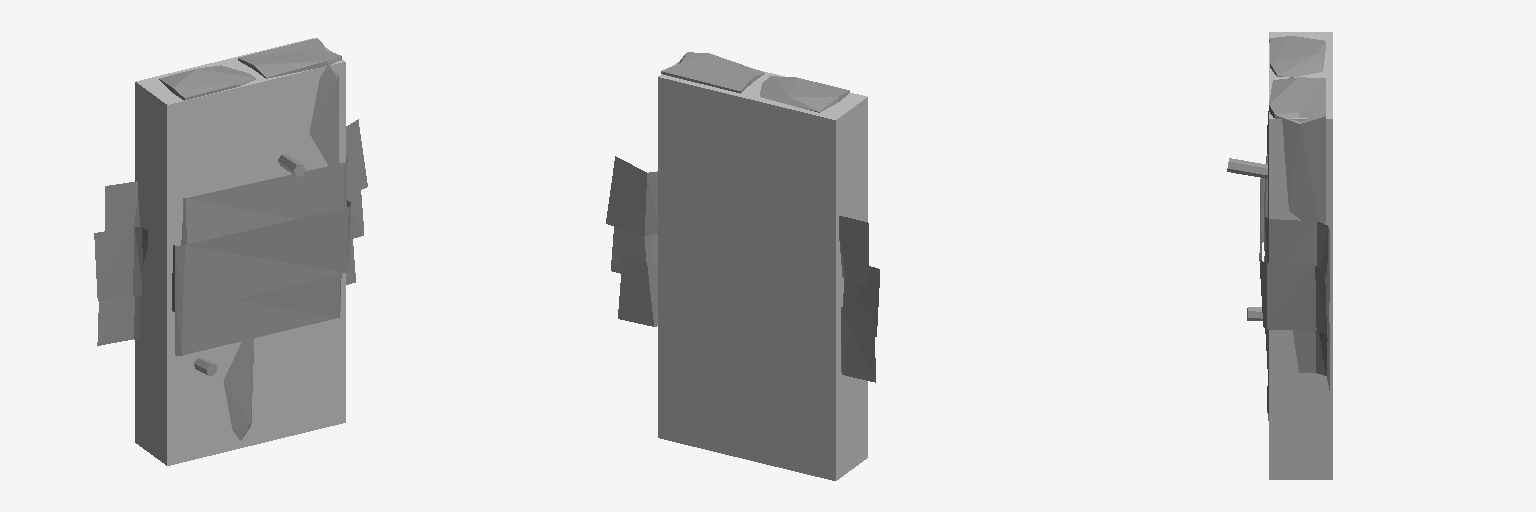
Rendered from auc_explosives.obj.
3 renders of one model, left to right at view 1: azimuth 30°, elevation 25°; view 2: azimuth 150°, elevation 25°; view 3: azimuth 270°, elevation 25°, orthographic.
Parts seen in each view (by area): view 1: c_c4_box, g_c4_glow; view 2: c_c4_box, g_c4_glow; view 3: g_c4_glow, c_c4_box.
Part boxes in pixels (left/top/right/bottom): c_c4_box: left=135, top=38, right=345, bottom=465; g_c4_glow: left=94, top=38, right=367, bottom=440; c_c4_box: left=658, top=61, right=867, bottom=480; g_c4_glow: left=606, top=52, right=879, bottom=382; g_c4_glow: left=1227, top=36, right=1329, bottom=420; c_c4_box: left=1269, top=32, right=1332, bottom=479.
Bounding box in the file's own units: 24.64 × 31.43 × 8.23.